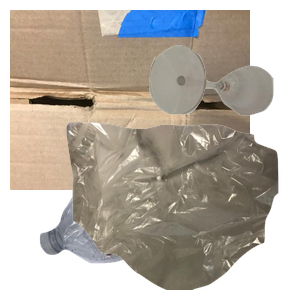cardboard: (10, 10, 250, 190)
glass: (147, 43, 300, 151)
plastic: (37, 144, 265, 300)
trash: (64, 120, 300, 300)
